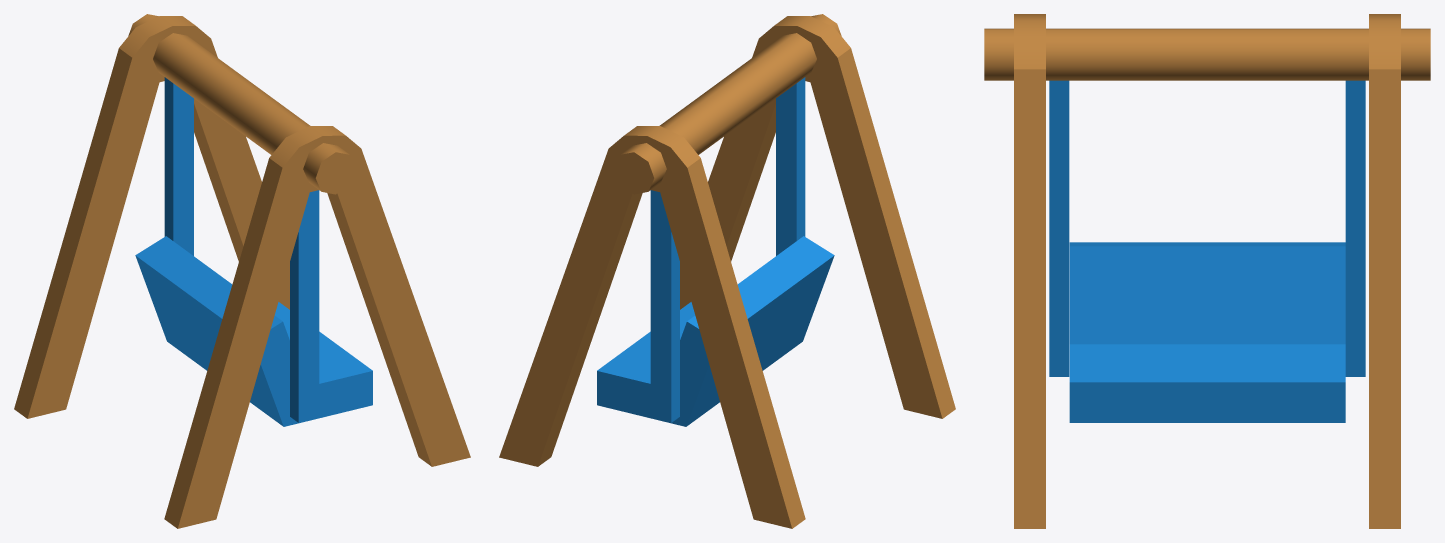
The model's file is swing01_s03.FBX.
3 renders of one model, left to right at view 1: azimuth 30°, elevation 25°; view 2: azimuth 150°, elevation 25°; view 3: azimuth 270°, elevation 25°, orthographic. The views are drawn at different scales.
Parts seen in each view (by area): view 1: swing01_s03, swing01_part2_s03; view 2: swing01_s03, swing01_part2_s03; view 3: swing01_part2_s03, swing01_s03.
Boxes of the visible parts, box(x1,y1,x2,y2) form: swing01_s03: box(14, 14, 470, 528); swing01_part2_s03: box(135, 77, 372, 426); swing01_s03: box(499, 14, 955, 528); swing01_part2_s03: box(597, 77, 834, 426); swing01_part2_s03: box(1049, 80, 1365, 422); swing01_s03: box(984, 14, 1430, 528).
Bounding box in the file's own units: 178 × 199 × 208.
Materials: 1 (1 with a texture image).
